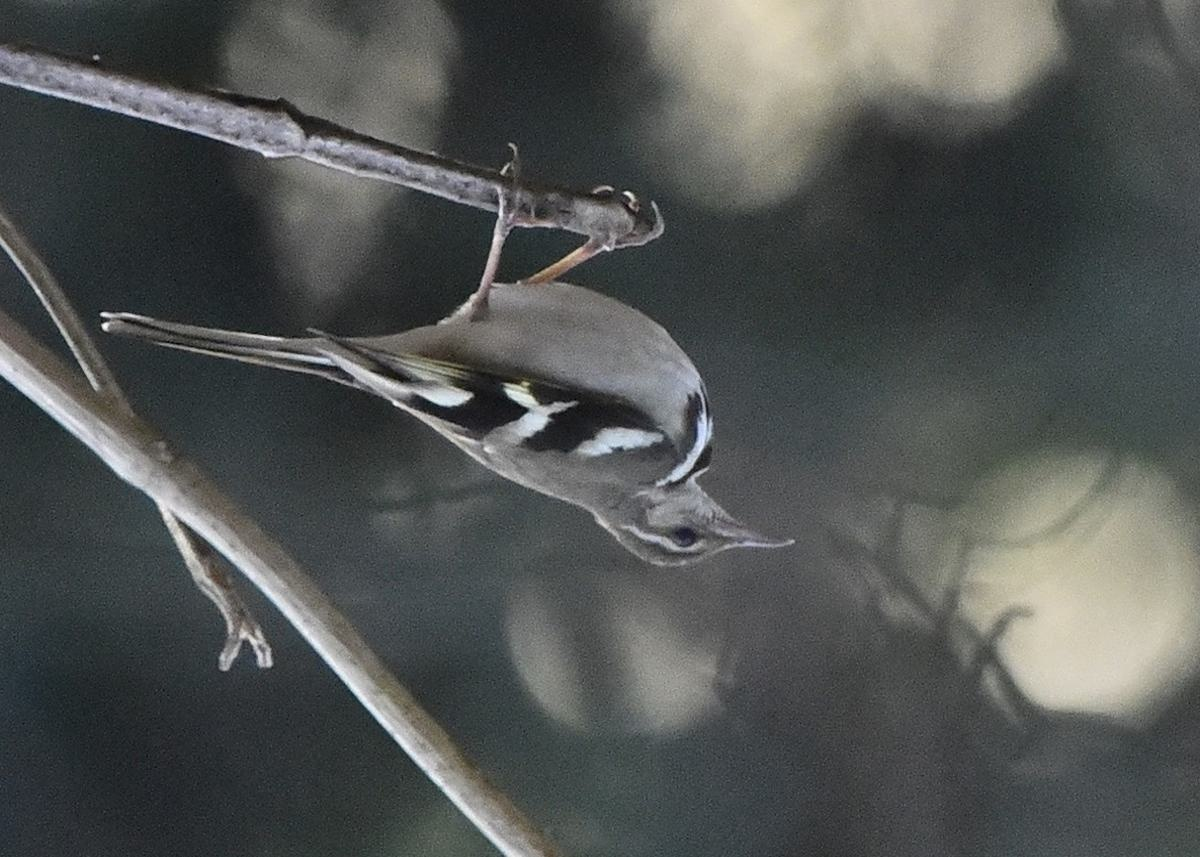wagtail: (176, 144, 805, 592)
